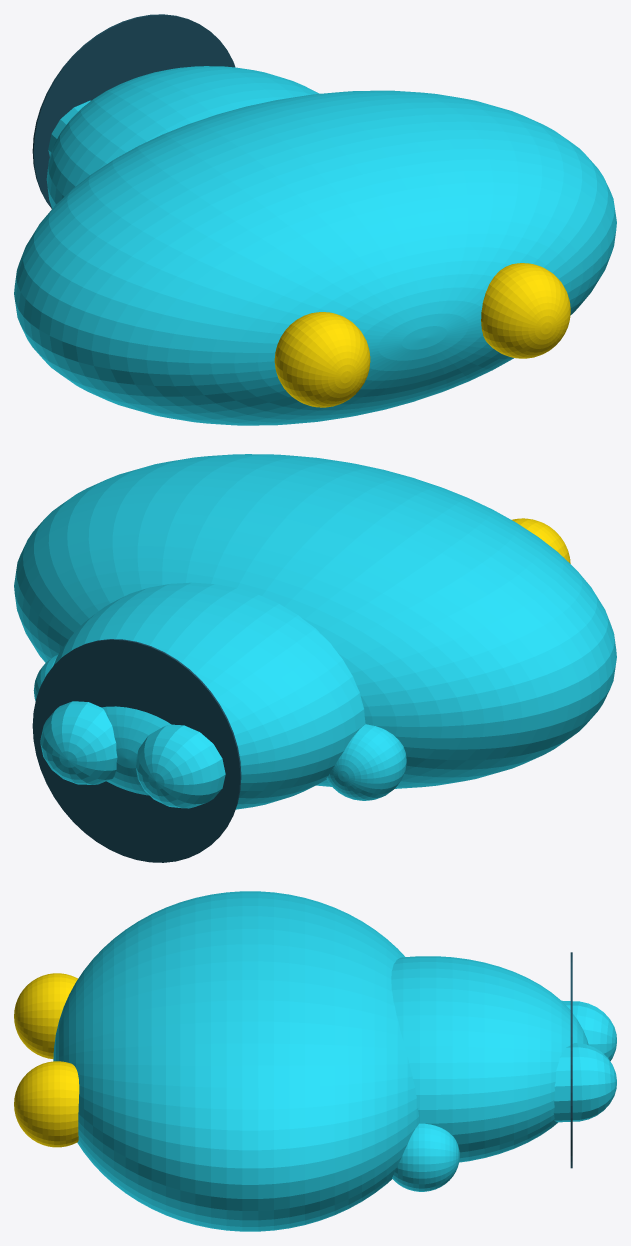
File: holo_mascot.glb
3 views of the same model, one above another, from view 1: azimuth 30°, elevation 25°; view 2: azimuth 150°, elevation 25°; view 3: azimuth 270°, elevation 25° (orthographic). The views are drawn at different scales.
Parts seen in each view (by area): view 1: Head, Body, Optional_Ground_Shadow, AntennaBall_Left, AntennaBall_Right; view 2: Head, Body, Optional_Ground_Shadow, Leg_Left, Leg_Right, Hand_Left, AntennaBall_Left; view 3: Head, Body, AntennaBall_Right, Leg_Right, AntennaBall_Left, Hand_Right, Leg_Left, Optional_Ground_Shadow.
Part boxes in pixels (x1,y1,x2,y2): Head: (14, 90, 616, 425); Body: (46, 66, 319, 208); Optional_Ground_Shadow: (32, 14, 235, 208); AntennaBall_Left: (274, 312, 370, 407); AntennaBall_Right: (481, 263, 570, 358); Head: (14, 454, 616, 788); Body: (53, 582, 365, 809); Optional_Ground_Shadow: (32, 639, 241, 862); Leg_Left: (135, 724, 225, 808); Leg_Right: (40, 701, 117, 784); Hand_Left: (326, 724, 406, 800); AntennaBall_Left: (512, 518, 570, 563); Head: (53, 891, 418, 1231); Body: (391, 956, 588, 1162); AntennaBall_Right: (14, 1061, 79, 1147); Leg_Right: (553, 1043, 616, 1122); AntennaBall_Left: (14, 973, 77, 1058); Hand_Right: (392, 1123, 459, 1191); Leg_Left: (562, 1000, 616, 1061); Optional_Ground_Shadow: (570, 952, 572, 1168).
Size of the model in its own units: 4.6 by 2.04 by 4.75.
